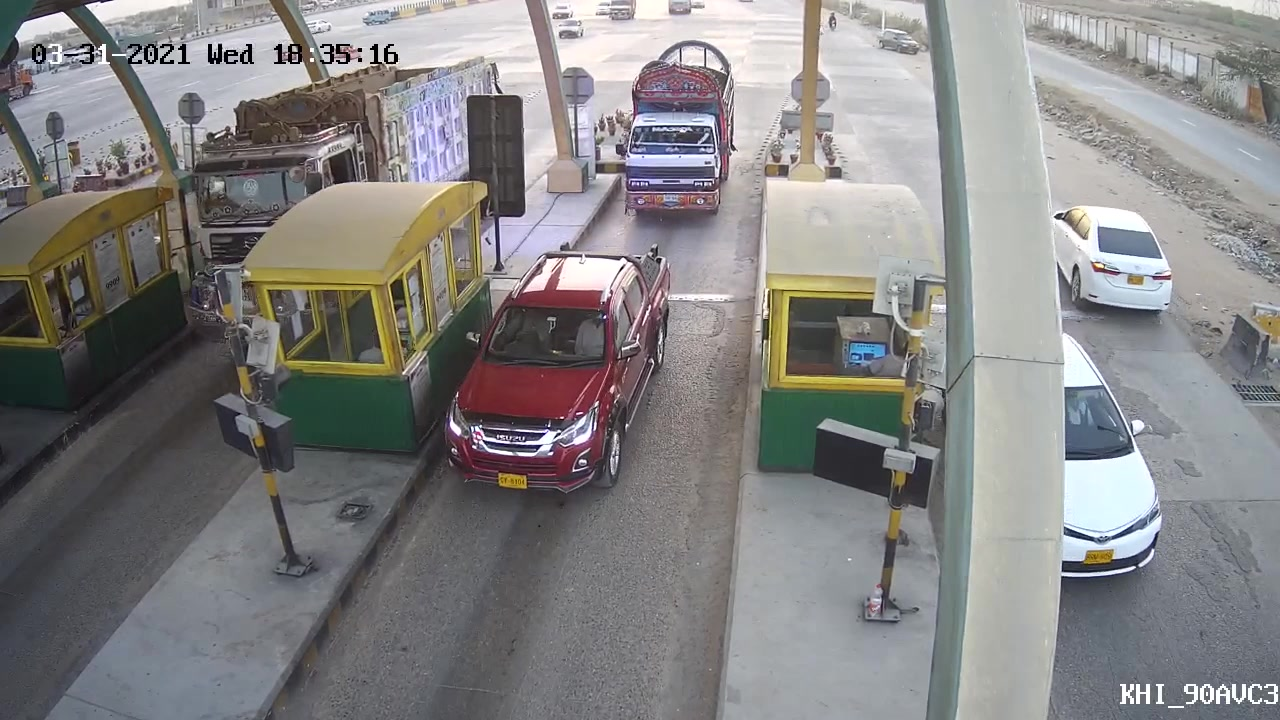F5: (433, 234, 671, 505), (614, 36, 742, 222)
